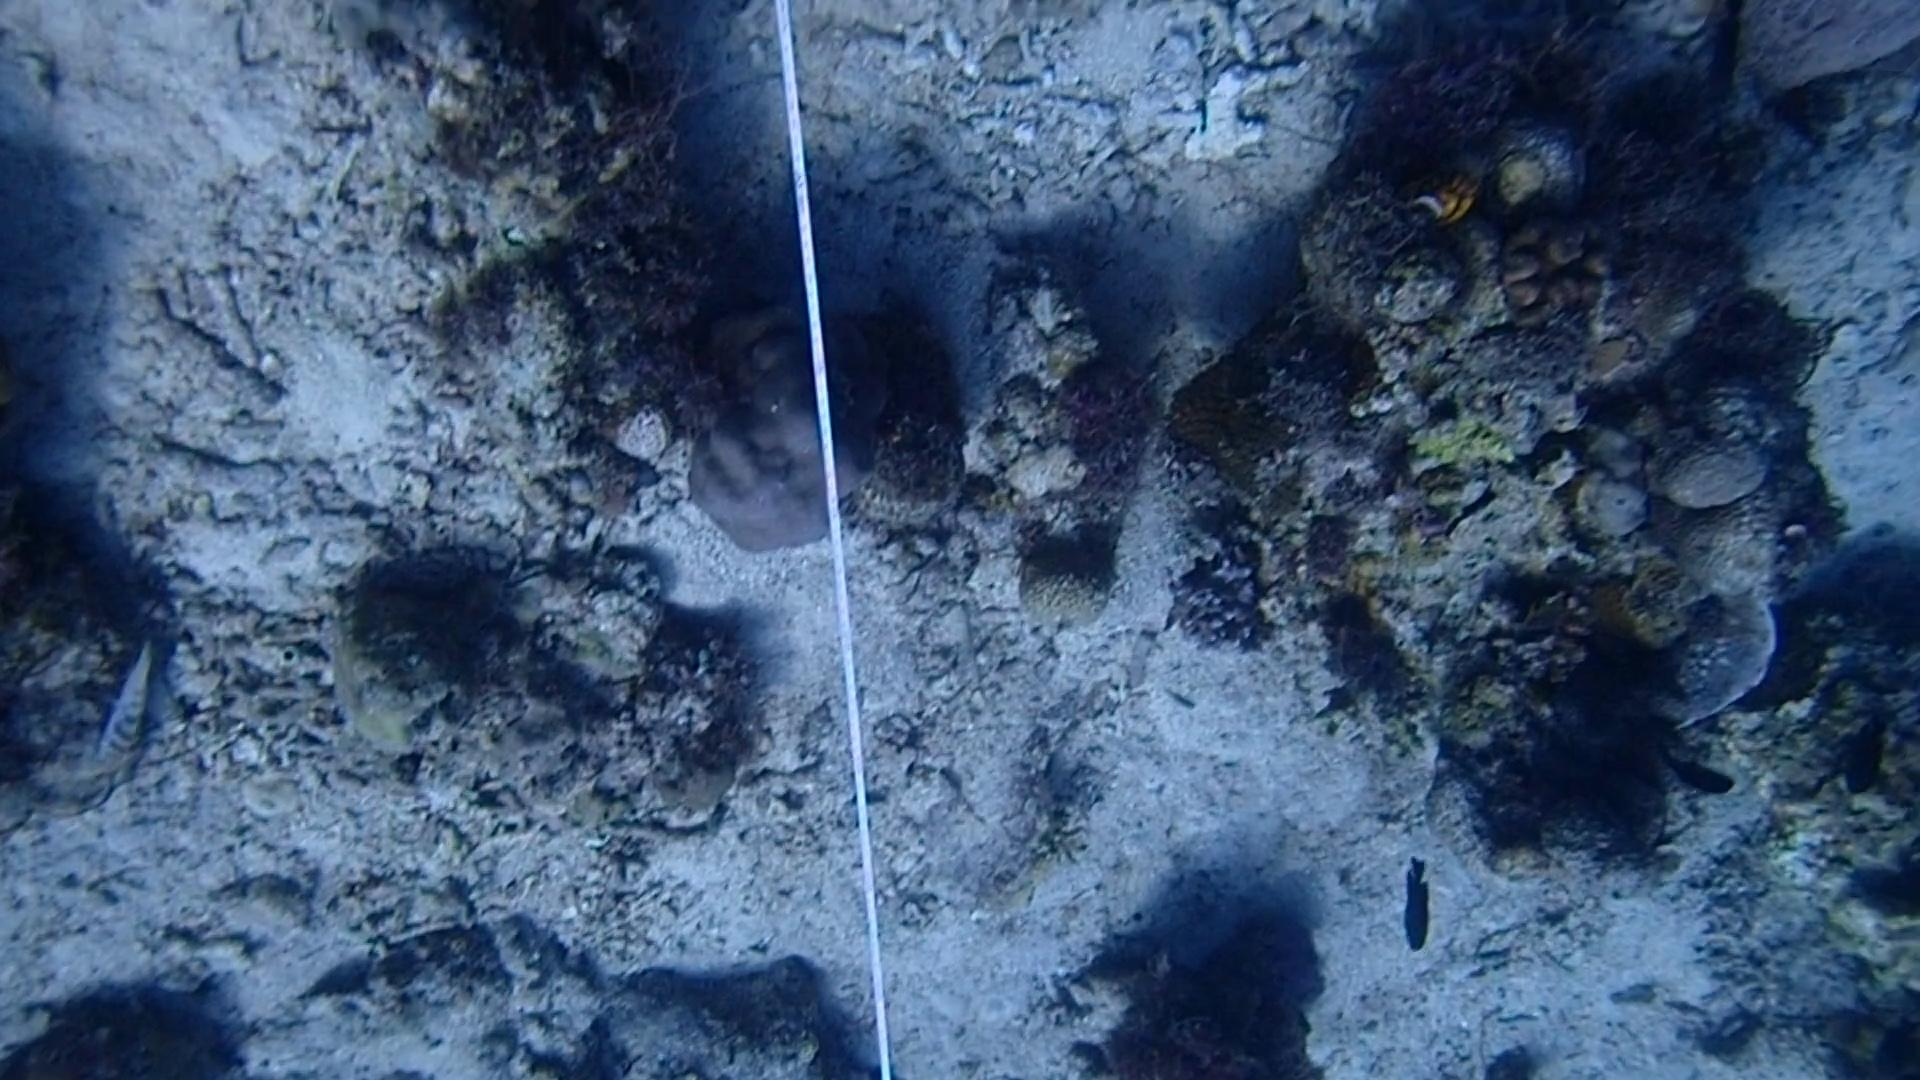Dark Fish: (1650, 732, 1754, 811), (1833, 703, 1903, 804), (1695, 0, 1751, 111), (1383, 851, 1437, 956)
Light Fish w Back Stripes: (82, 632, 182, 778)
